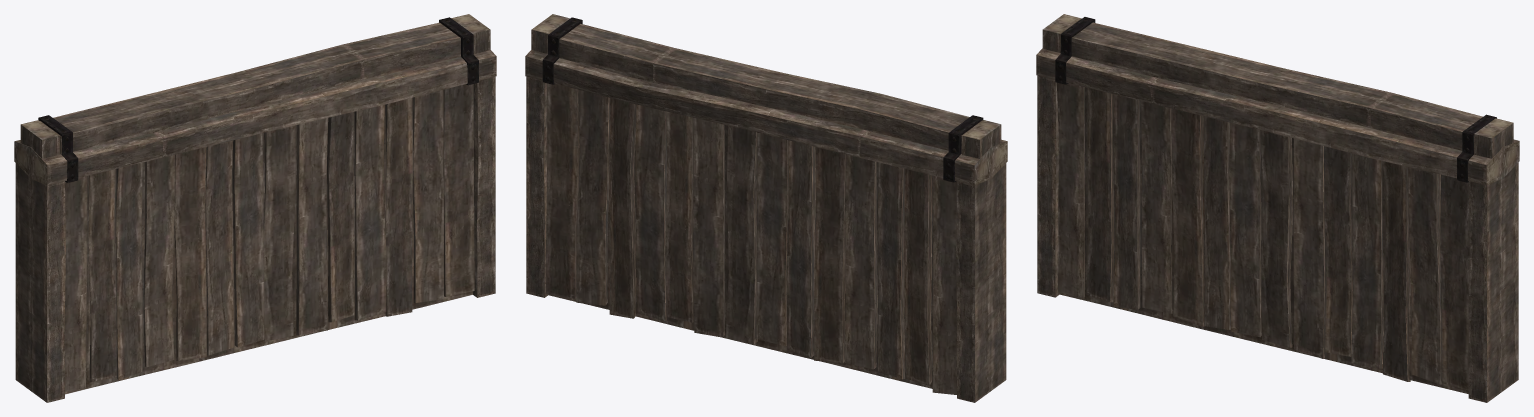
Rendered from jav_struc_def_ironwood_t2_wall_a_btmonly-transformed.glb.
The picture shows the model from 3 angles, left to right: view 1: azimuth 30°, elevation 25°; view 2: azimuth 150°, elevation 25°; view 3: azimuth 330°, elevation 25°; orthographic projection.
Visible parts, largest first — view 1: default; view 2: default; view 3: default.
Boxes of the visible parts, <box> form: default: <box>14,14,496,402</box>; default: <box>525,14,1007,402</box>; default: <box>1036,14,1519,402</box>.
Bounding box in the file's own units: 8.01 × 4.51 × 1.16.
1 material, 1 textured.
